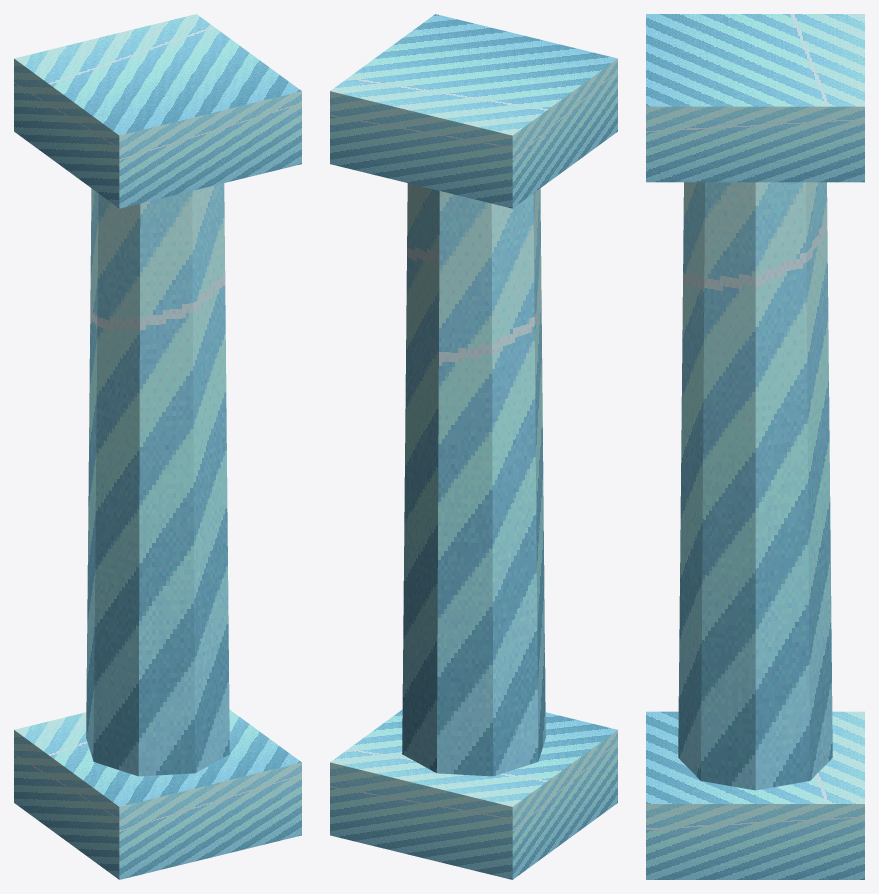
Rendered from pilar_de_gelo.glb.
3 renders of one model, left to right at view 1: azimuth 30°, elevation 25°; view 2: azimuth 150°, elevation 25°; view 3: azimuth 270°, elevation 25°, orthographic. The views are drawn at different scales.
Visible parts, largest first — view 1: pilar_de_gelo; view 2: pilar_de_gelo; view 3: pilar_de_gelo.
Part boxes in pixels (left/top/right/bottom): pilar_de_gelo: left=14, top=14, right=301, bottom=879; pilar_de_gelo: left=330, top=14, right=617, bottom=879; pilar_de_gelo: left=646, top=14, right=864, bottom=879.
Bounding box in the file's own units: 0.68 × 2.65 × 0.68.
Materials: 1 (1 with a texture image).
